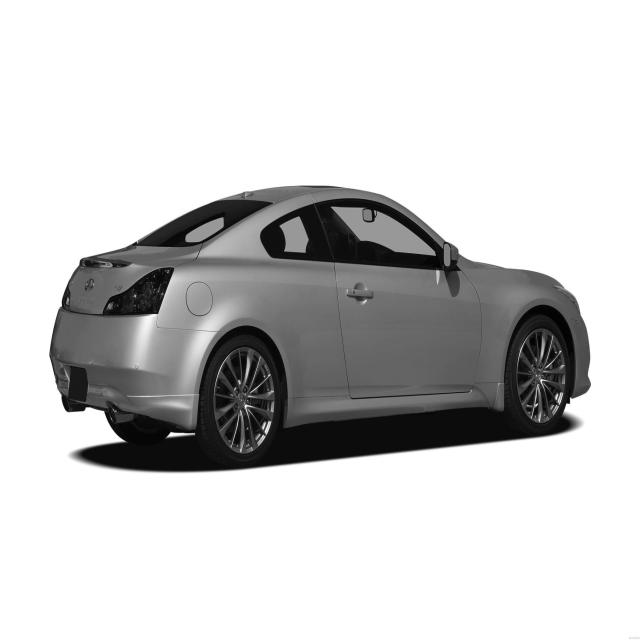car: (49, 184, 592, 468)
